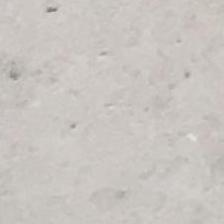Non_Crack: (36, 36, 188, 206)
